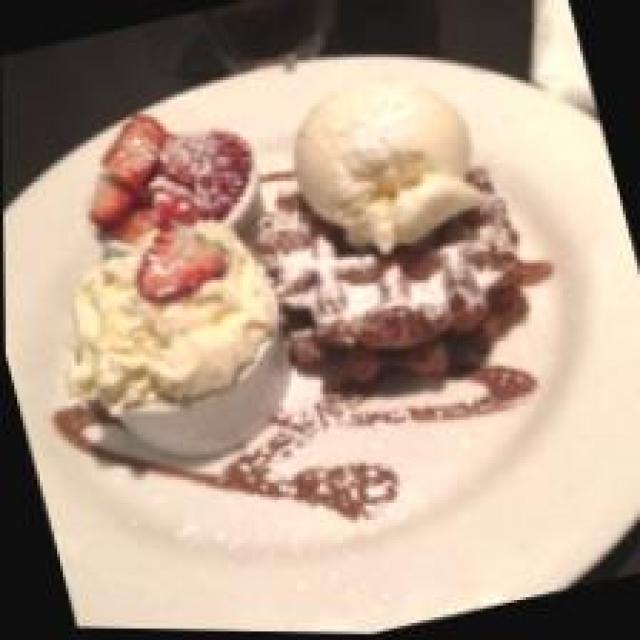Waffles: (250, 133, 561, 421)
